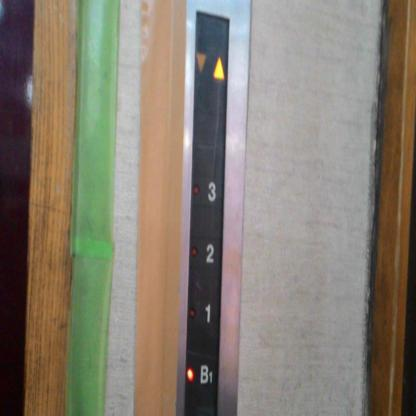1: (186, 294, 221, 334)
2: (187, 234, 224, 267)
3: (190, 171, 224, 209)
B1: (184, 350, 219, 396)
